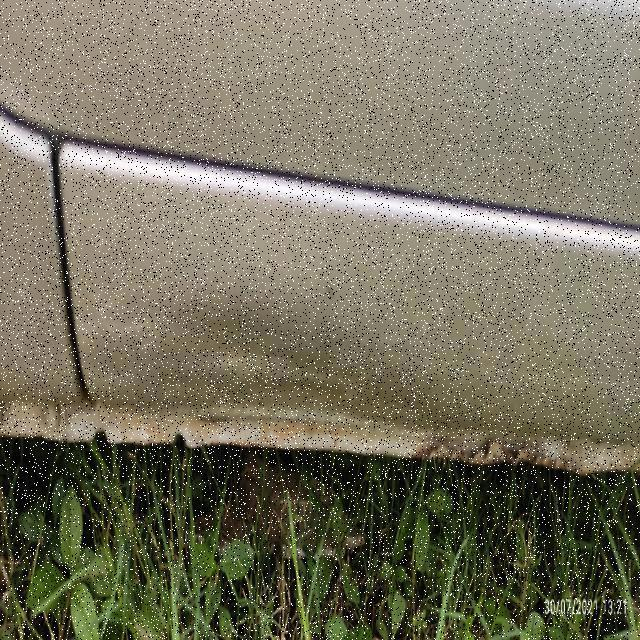RunningBoard-Dent: (54, 121, 606, 488)
